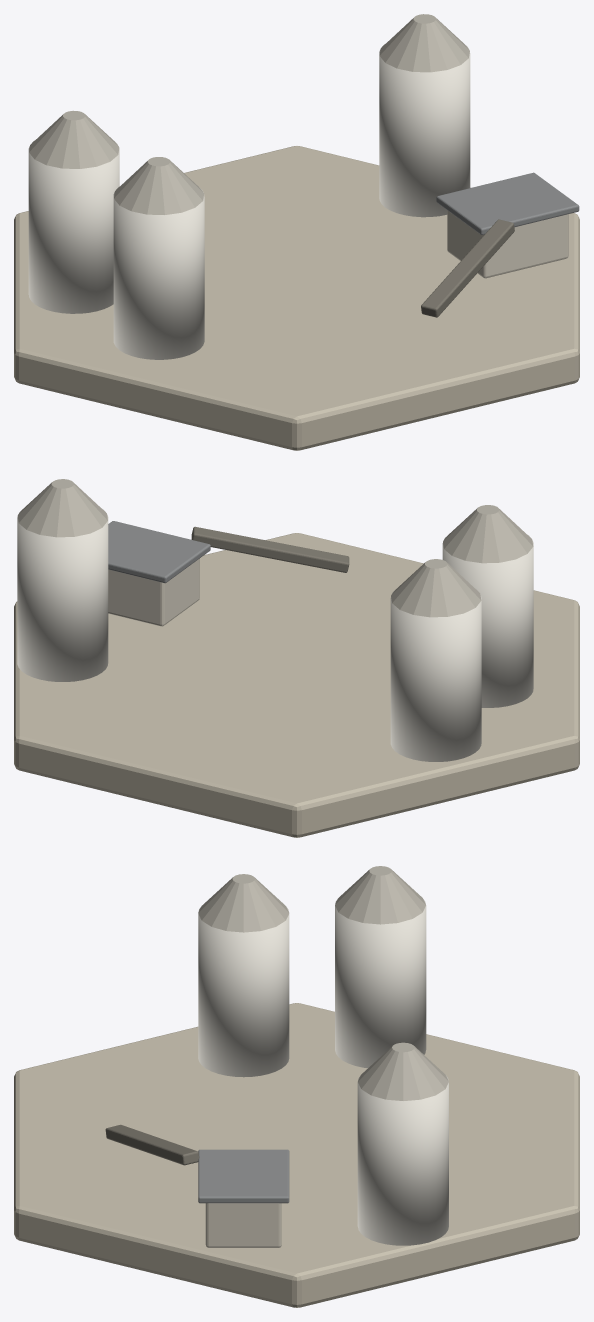
Rendered from quadra-cimenteira.glb.
3 views of the same model, one above another, from view 1: azimuth 30°, elevation 25°; view 2: azimuth 150°, elevation 25°; view 3: azimuth 270°, elevation 25° (orthographic).
Visible parts, largest first — view 1: lote, silo.001, silo.002, silo, telhado, galpao, silo-topo.002, silo-topo, silo-topo.001, esteira; view 2: lote, silo.002, silo, silo.001, telhado, galpao, silo-topo.002, silo-topo.001, silo-topo, esteira; view 3: lote, silo.002, silo.001, silo, telhado, silo-topo.001, silo-topo, silo-topo.002, galpao, esteira.
Part boxes in pixels (<box>): lote: <box>14,146,579,450</box>; silo.001: <box>113,186,204,359</box>; silo.002: <box>379,44,470,217</box>; silo: <box>28,140,119,313</box>; telhado: <box>436,172,579,234</box>; galpao: <box>447,210,568,278</box>; silo-topo.002: <box>379,14,469,72</box>; silo-topo: <box>29,110,119,168</box>; silo-topo.001: <box>114,157,204,214</box>; esteira: <box>421,219,514,317</box>; lote: <box>14,533,579,837</box>; silo.002: <box>17,509,108,681</box>; silo: <box>390,588,481,761</box>; silo.001: <box>442,534,533,707</box>; telhado: <box>108,521,210,583</box>; galpao: <box>108,558,199,626</box>; silo-topo.002: <box>17,479,107,537</box>; silo-topo.001: <box>443,505,533,563</box>; silo-topo: <box>391,559,481,617</box>; esteira: <box>191,526,349,572</box>; lote: <box>14,1003,579,1307</box>; silo.002: <box>357,1075,448,1245</box>; silo.001: <box>198,907,289,1077</box>; silo: <box>335,899,426,1068</box>; telhado: <box>198,1149,289,1203</box>; silo-topo.001: <box>198,874,289,932</box>; silo-topo: <box>335,866,425,924</box>; silo-topo.002: <box>358,1042,448,1100</box>; galpao: <box>205,1203,281,1247</box>; esteira: <box>105,1124,199,1165</box>.
Size of the model in its own units: 1.71 by 0.62 by 1.49.
